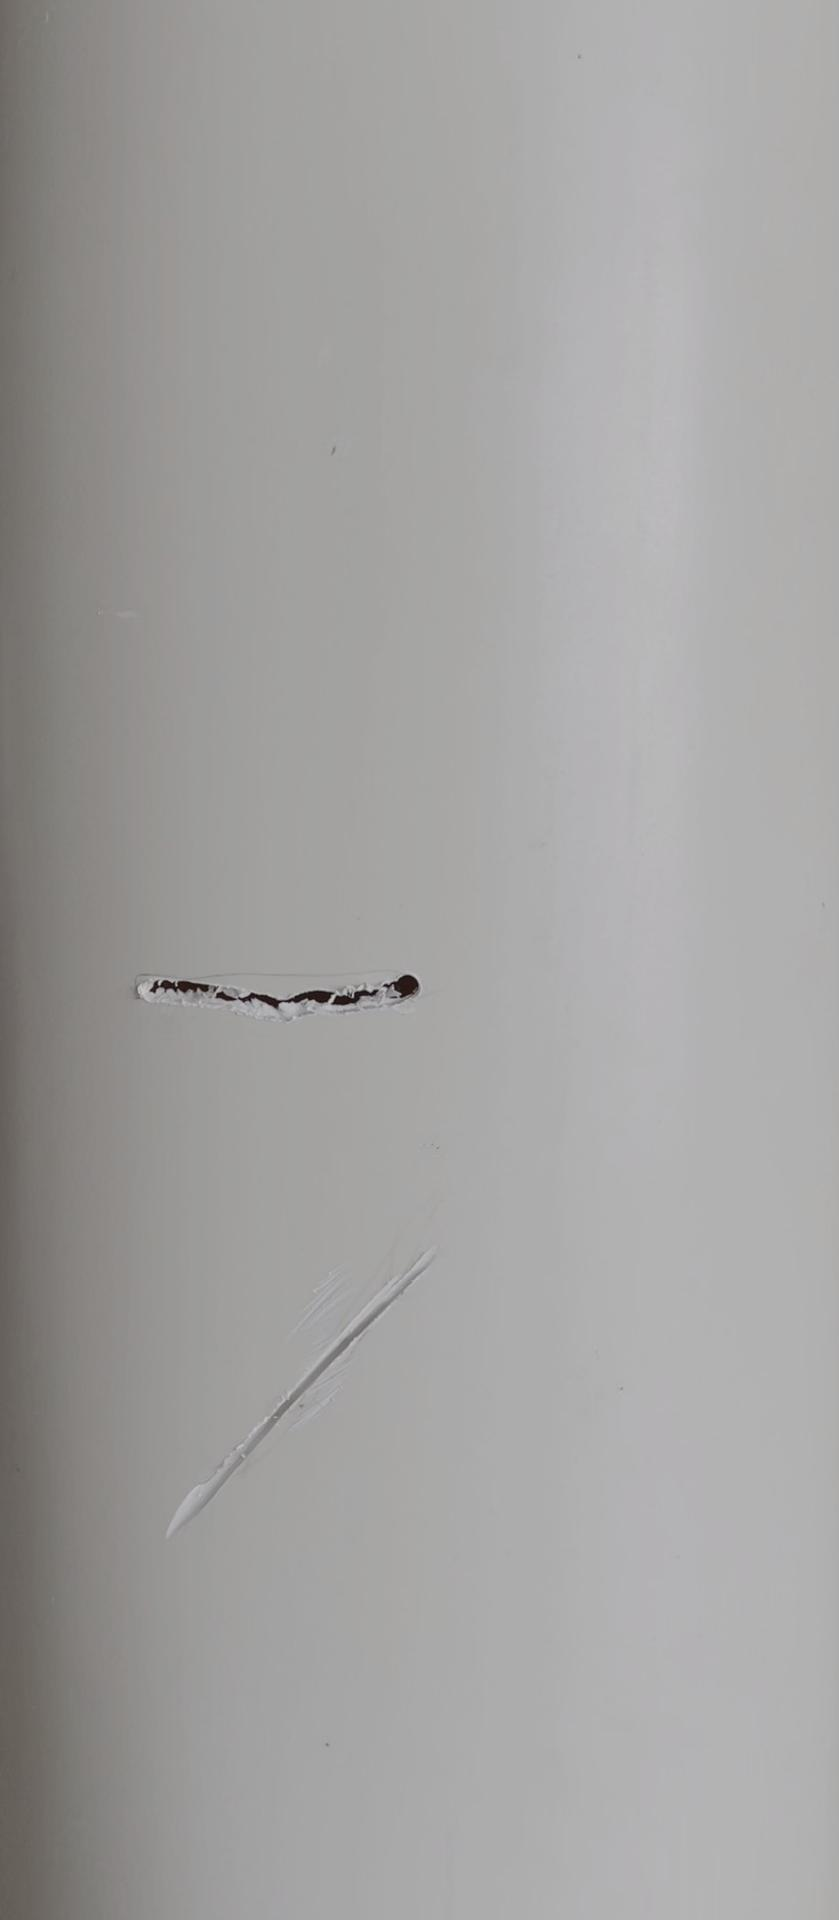fengxi: (119, 954, 457, 1031)
sunshang: (145, 1240, 445, 1556)
